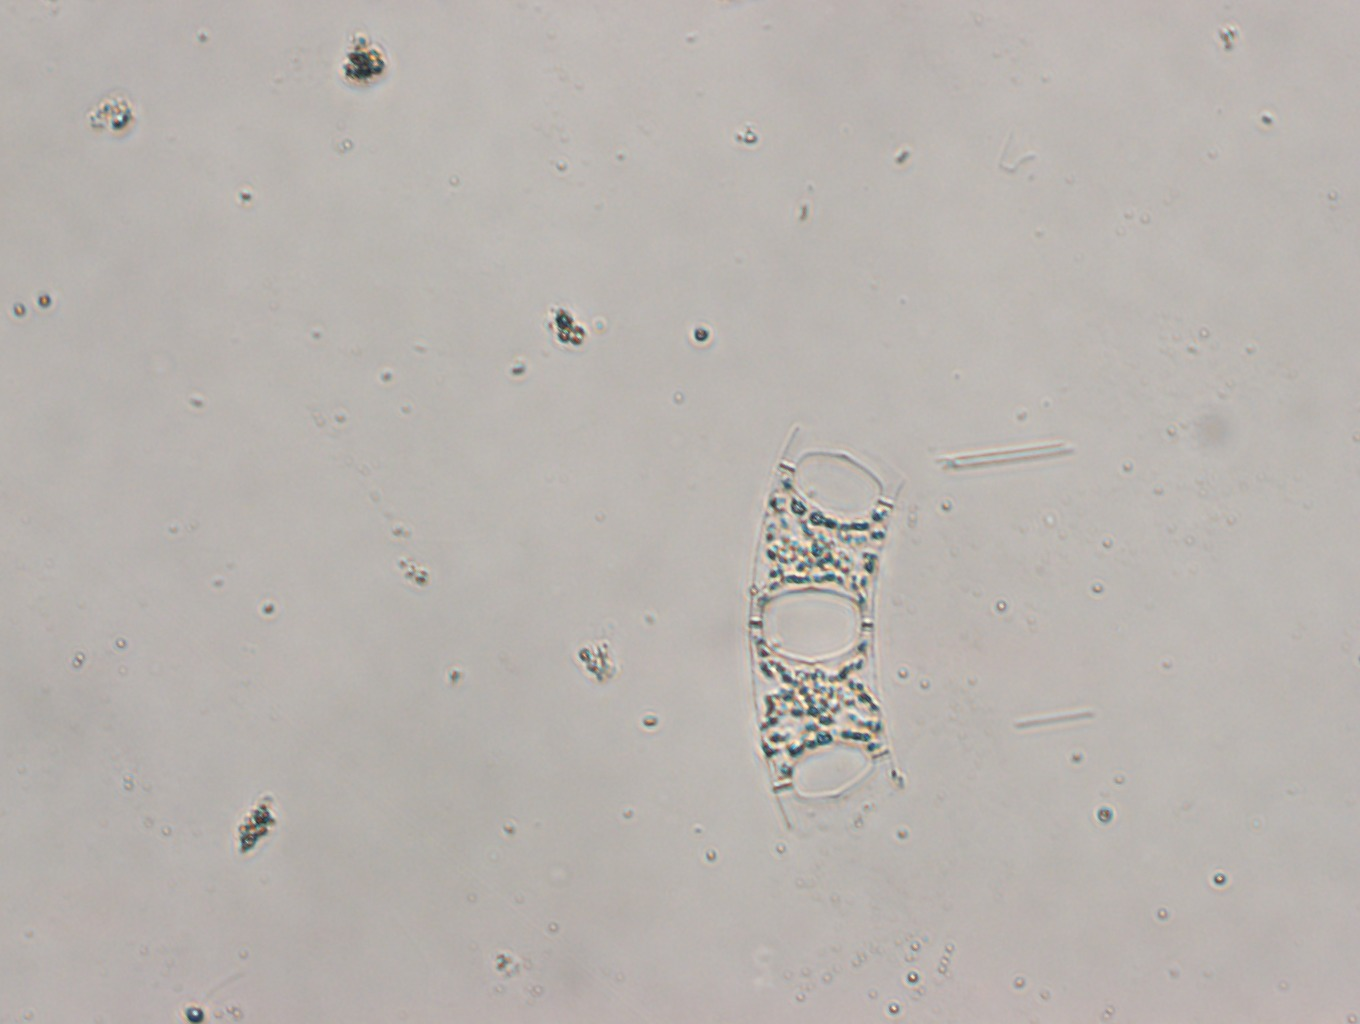eucampia: (751, 411, 915, 838)
